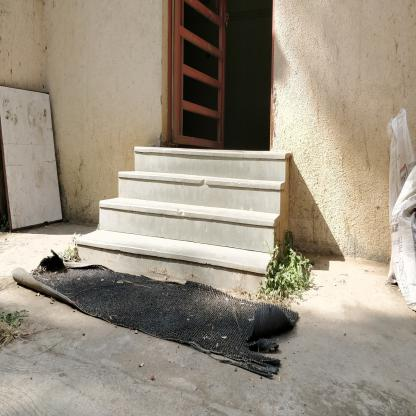stairs: (135, 142, 269, 292)
